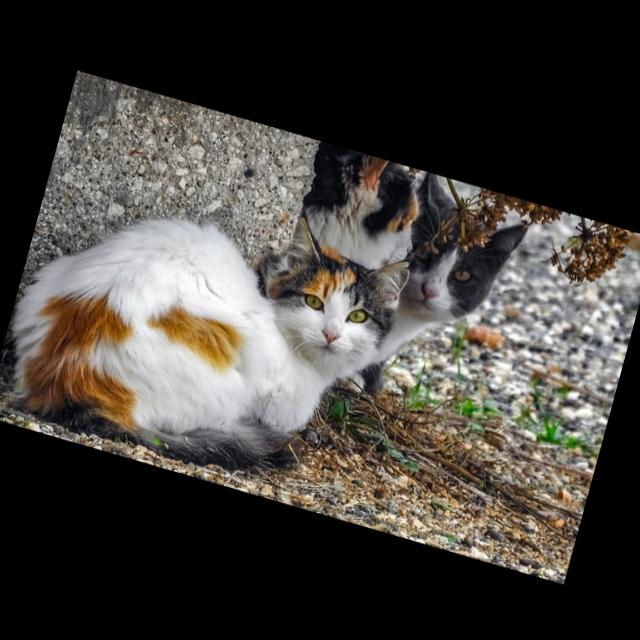animals: (8, 208, 409, 467), (315, 139, 530, 379)
